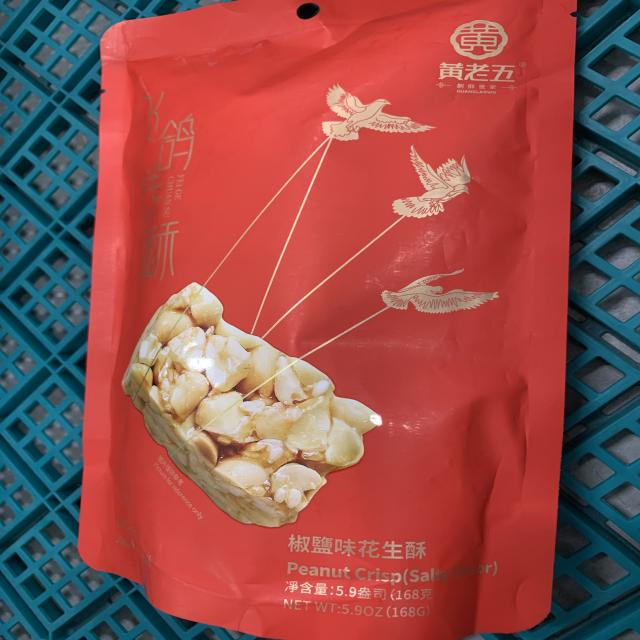object_name: (97, 6, 561, 622)
